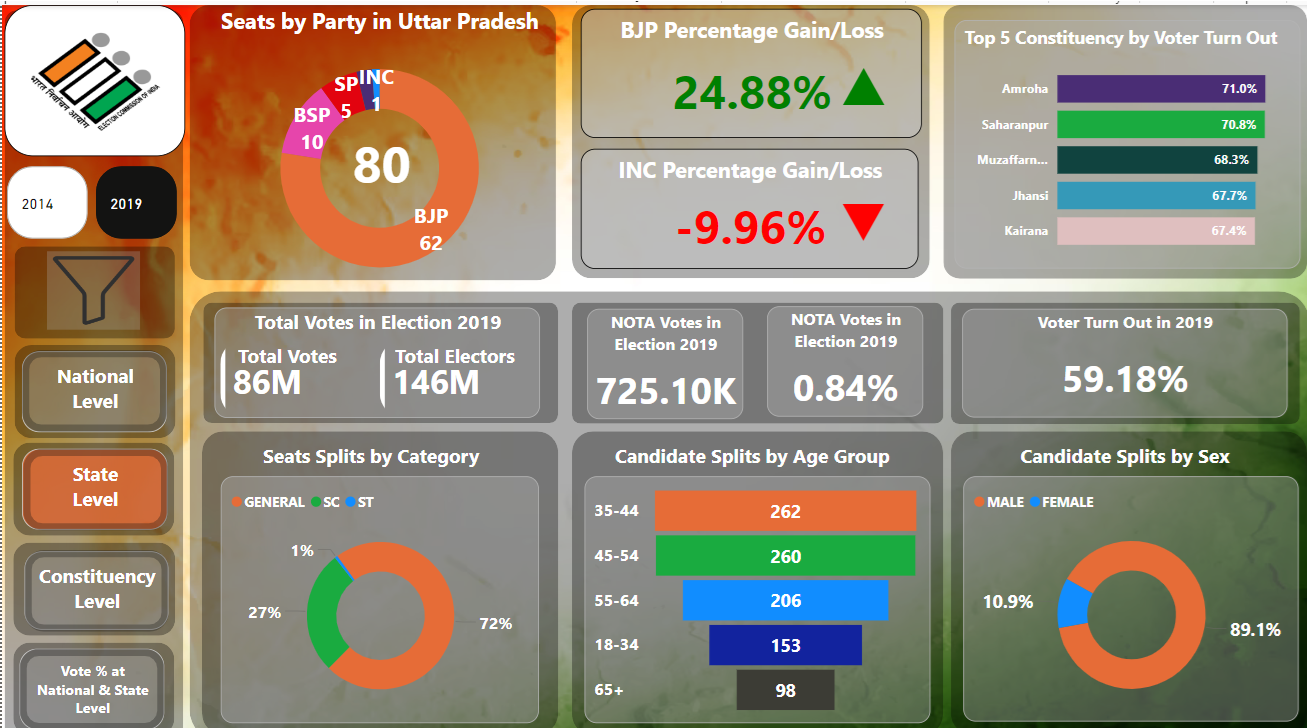

This screenshot's page, from the dashboard's own definition file:
{"tool":"powerbi","page":{"name":"State Level","canvas":[1280,720],"ordinal":2},"visuals":[{"type":"image","box":[0,0,1280.3,720.2],"z":0},{"type":"donutChart","fields":{"Category":["CombinedElectionData.Party"],"Y":["CountNonNull(CombinedElectionData.IsWinningCandidate)"]},"box":[116,0,506.9,290.9],"z":0,"group":"g2"},{"type":"shape","box":[11.6,623.2,157.6,91.1],"z":0,"group":"g1"},{"type":"textbox","box":[17.4,629,141.7,79.5],"z":500,"group":"g1"},{"type":"card","title":"Seats in 2019","fields":{"Values":["Count(CombinedElectionData.Constituency)"]},"box":[288.2,82.1,166,142.8],"z":1000,"group":"g2"},{"type":"shape","box":[183.9,280.3,1095.8,440.4],"z":1000},{"type":"actionButton","box":[17.4,629,141.7,79.5],"z":1000,"group":"g1"},{"type":"shape","box":[920.9,0,356,267.7],"z":2000},{"type":"shape","box":[557.5,0,350,267.5],"z":3000},{"type":"shape","box":[183.8,0,358.7,269.5],"z":4000},{"type":"shape","box":[195.2,416.5,348.5,297],"z":5000},{"type":"shape","box":[196.7,290.7,347,118],"z":6000},{"type":"shape","box":[558.2,416.5,363,297.9],"z":7000},{"type":"shape","box":[3,4.4,175,716.2],"z":8000},{"type":"shape","box":[11.9,235.8,157.2,90.5],"z":9000},{"type":"shape","box":[12.4,332.2,157.6,91.2],"z":10000},{"type":"barChart","title":"Top 5 Constituency by Voter Turn Out","fields":{"Y":["CombinedElectionData.Voter Turnout ratio"],"Category":["CombinedElectionData.Constituency"],"Series":["CombinedElectionData.Constituency"]},"box":[931.2,14.8,338.1,243.2],"z":11000},{"type":"donutChart","title":"Seats in 2019","fields":{"Category":["CombinedElectionData.Category"],"Y":["CountNonNull(CombinedElectionData.Category)"]},"box":[213.5,461.2,311.4,241.7],"z":12000},{"type":"funnel","title":"Seats in 2019","fields":{"Category":["CombinedElectionData.Age Bin"],"Y":["CountNonNull(CombinedElectionData.Age Bin)"]},"box":[569.7,461.3,338,241.5],"z":13000},{"type":"textbox","box":[208.2,423.7,306.6,49.2],"z":14000},{"type":"textbox","box":[581.3,423.7,306.6,49.2],"z":15000},{"type":"shape","box":[928.3,416.5,348.5,297],"z":16000},{"type":"group","id":"g1","title":"Vote % at National & State Level","box":[11.6,623.2,157.6,91.1],"z":16500},{"type":"donutChart","title":"Seats in 2019","fields":{"Category":["CombinedElectionData.Sex"],"Y":["CountNonNull(CombinedElectionData.Sex)"]},"box":[940.1,461,328,240.2],"z":17000},{"type":"textbox","box":[945.7,423.7,306.6,49.2],"z":18000},{"type":"cardVisual","fields":{"Data":["Sum(CombinedElectionData.Votes)","CombinedElectionData.Total_Electors"]},"box":[208.2,296.4,318.1,108],"z":19000},{"type":"textbox","box":[202,325.4,154.7,49.2],"z":20000},{"type":"textbox","box":[366,325.4,154.7,49.2],"z":21000},{"type":"shape","box":[557.6,290.6,363.3,118.6],"z":22000},{"type":"card","fields":{"Values":["Sum(CombinedElectionData.Votes)"]},"box":[572.4,296.6,152.7,108.2],"z":23000},{"type":"card","fields":{"Values":["CombinedElectionData.NOTAPercentage"]},"box":[748.9,295.1,152.7,108.2],"z":24000},{"type":"image","box":[3,0,176.5,148.3],"z":25000},{"type":"image","box":[44.6,240.9,91,76.7],"z":26000},{"type":"shape","box":[928.6,290.5,341.5,119],"z":27000},{"type":"textbox","box":[19.7,339,141.9,78.8],"z":28000},{"type":"shape","box":[10.8,428,157.6,91.2],"z":29000},{"type":"textbox","box":[20.1,434.2,142.2,78.8],"z":30000},{"type":"actionButton","box":[20.8,434.2,141.7,80],"z":31000},{"type":"shape","box":[11.4,526,158.5,91.3],"z":31125},{"type":"textbox","box":[22.2,533.8,140.9,77.1],"z":31250},{"type":"actionButton","box":[22.2,533,141.1,80],"z":31500},{"type":"actionButton","box":[19,338,142,80],"z":32000},{"type":"actionButton","title":"Slicer Open","box":[44.6,240.9,91,76.7],"z":33000},{"type":"group","id":"g2","title":"Group 2","box":[116,0,506.9,290.9],"z":34000},{"type":"card","fields":{"Values":["CombinedElectionData.Voter Turnout ratio"]},"box":[939.5,296.7,318,106.6],"z":35000},{"type":"advancedSlicerVisual","fields":{"Values":["CombinedElectionData.Year"]},"box":[0,152.7,176.5,81.6],"z":37000},{"type":"card","title":"BJP Percentage Gain/Loss","fields":{"Values":["CombinedElectionData.PercentageDifference"]},"box":[565.8,3.6,333.7,126.7],"z":38000},{"type":"card","fields":{"Values":["CombinedElectionData.Icon_C"]},"box":[812,42,62.3,69.7],"z":39000},{"type":"card","title":"INC Percentage Gain/Loss","fields":{"Values":["CombinedElectionData.PercentageDifference"]},"box":[565.8,141,330.2,117.8],"z":40000},{"type":"card","fields":{"Values":["CombinedElectionData.Icon_C"]},"box":[806.7,174,71.4,71.4],"z":41000}]}

Visuals, with their boxes in screenshot pixels (x1, y1, x2, y2), scaled from the page's 1280x720 canvas onto the 1307x728 screenshot:
image: crop(0, 0, 1306, 727)
donutChart - CombinedElectionData.Party x CountNonNull(CombinedElectionData.IsWinningCandidate): crop(118, 0, 636, 294)
shape: crop(12, 630, 173, 722)
textbox: crop(18, 636, 162, 716)
"Seats in 2019" card: crop(294, 83, 464, 227)
shape: crop(188, 283, 1306, 727)
actionButton: crop(18, 636, 162, 716)
shape: crop(940, 0, 1304, 271)
shape: crop(569, 0, 927, 270)
shape: crop(188, 0, 554, 272)
shape: crop(199, 421, 555, 721)
shape: crop(201, 294, 555, 413)
shape: crop(570, 421, 941, 722)
shape: crop(3, 4, 182, 727)
shape: crop(12, 238, 173, 330)
shape: crop(13, 336, 174, 428)
"Top 5 Constituency by Voter Turn Out" barChart: crop(951, 15, 1296, 261)
"Seats in 2019" donutChart: crop(218, 466, 536, 711)
"Seats in 2019" funnel: crop(582, 466, 927, 711)
textbox: crop(213, 428, 526, 478)
textbox: crop(594, 428, 907, 478)
shape: crop(948, 421, 1304, 721)
"Vote % at National & State Level" group: crop(12, 630, 173, 722)
"Seats in 2019" donutChart: crop(960, 466, 1295, 709)
textbox: crop(966, 428, 1279, 478)
cardVisual - Sum(CombinedElectionData.Votes) x CombinedElectionData.Total_Electors: crop(213, 300, 537, 409)
textbox: crop(206, 329, 364, 379)
textbox: crop(374, 329, 532, 379)
shape: crop(569, 294, 940, 414)
card - Sum(CombinedElectionData.Votes): crop(584, 300, 740, 409)
card - CombinedElectionData.NOTAPercentage: crop(765, 298, 921, 408)
image: crop(3, 0, 183, 150)
image: crop(46, 244, 138, 321)
shape: crop(948, 294, 1297, 414)
textbox: crop(20, 343, 165, 422)
shape: crop(11, 433, 172, 525)
textbox: crop(21, 439, 166, 519)
actionButton: crop(21, 439, 166, 520)
shape: crop(12, 532, 173, 624)
textbox: crop(23, 540, 167, 618)
actionButton: crop(23, 539, 167, 620)
actionButton: crop(19, 342, 164, 423)
"Slicer Open" actionButton: crop(46, 244, 138, 321)
"Group 2" group: crop(118, 0, 636, 294)
card - CombinedElectionData.Voter Turnout ratio: crop(959, 300, 1284, 408)
advancedSlicerVisual - CombinedElectionData.Year: crop(0, 154, 180, 237)
"BJP Percentage Gain/Loss" card: crop(578, 4, 918, 132)
card - CombinedElectionData.Icon_C: crop(829, 42, 893, 113)
"INC Percentage Gain/Loss" card: crop(578, 143, 915, 262)
card - CombinedElectionData.Icon_C: crop(824, 176, 897, 248)
